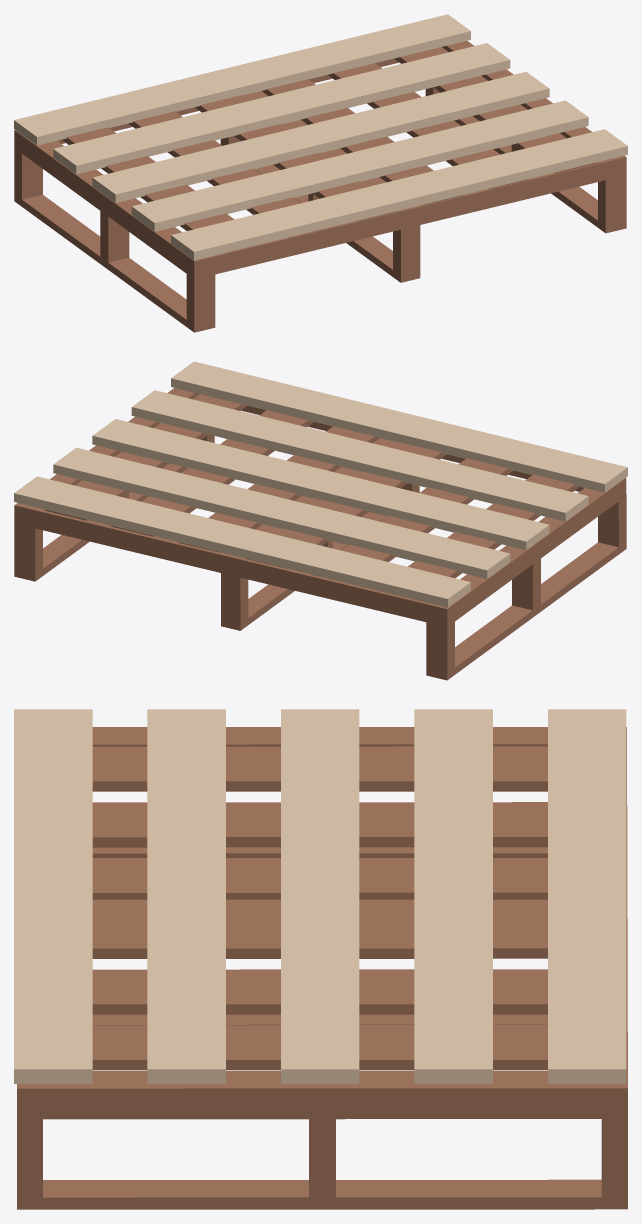
File: Stand-garage.fbx
The picture shows the model from 3 angles, top to bottom: view 1: azimuth 30°, elevation 25°; view 2: azimuth 150°, elevation 25°; view 3: azimuth 270°, elevation 25°; orthographic projection. The views are drawn at different scales.
Parts seen in each view (by area): view 1: Stand-garage; view 2: Stand-garage; view 3: Stand-garage.
Part boxes in pixels (x1,y1,x2,y2): Stand-garage: (14,14,627,332); Stand-garage: (14,361,627,680); Stand-garage: (14,709,627,1209).
Bounding box in the file's own units: 345 × 63.02 × 249.
